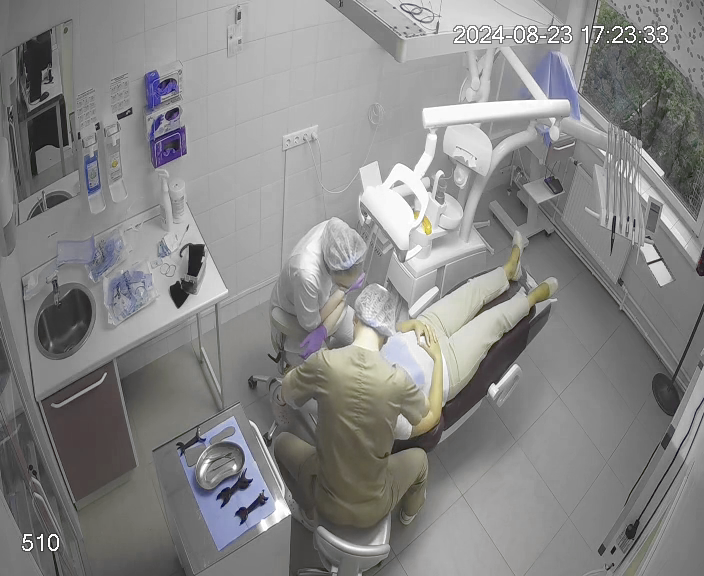Patient: (316, 229, 559, 447)
